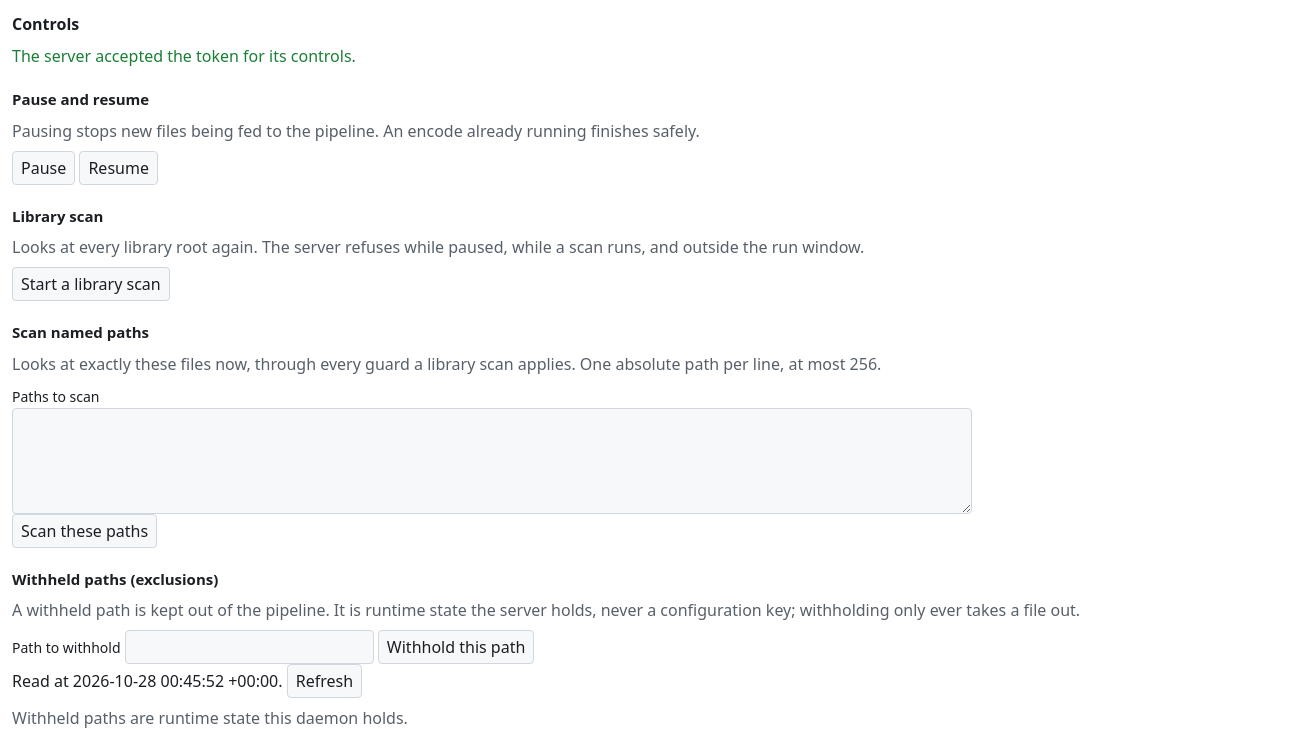
Test: controls › controls: a refused pause is an alert in the server's words and claims no success
Check: the text "The server accepted the token for its controls." is shown, box left=12, top=45, right=356, bottom=67
Click the button "Pause": coordinates (44, 168) left=12, top=150, right=75, bottom=184
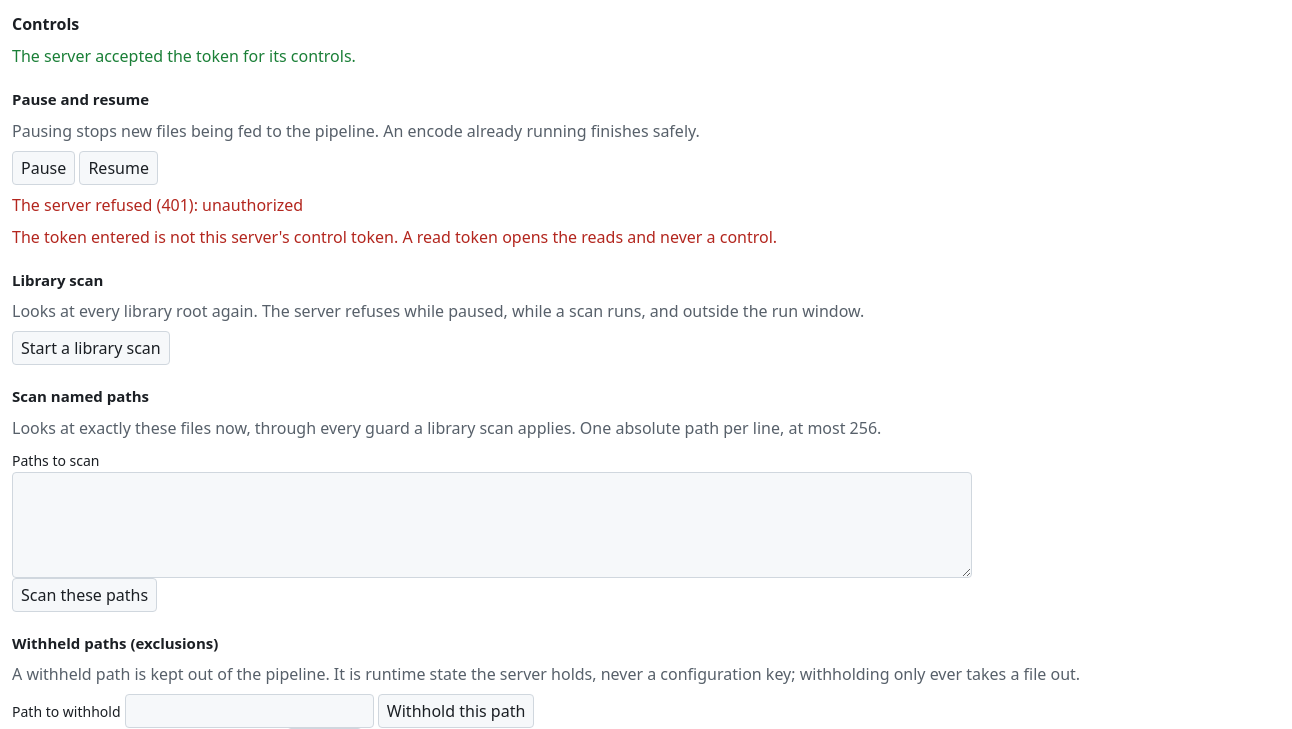
Check: the message that starts with "The server refused (401): unauthorized" is shown, box left=12, top=194, right=303, bottom=216
Check: the message that starts with "The server refused (401): unauthorized" shows "not this server's control token", box left=12, top=226, right=777, bottom=248
